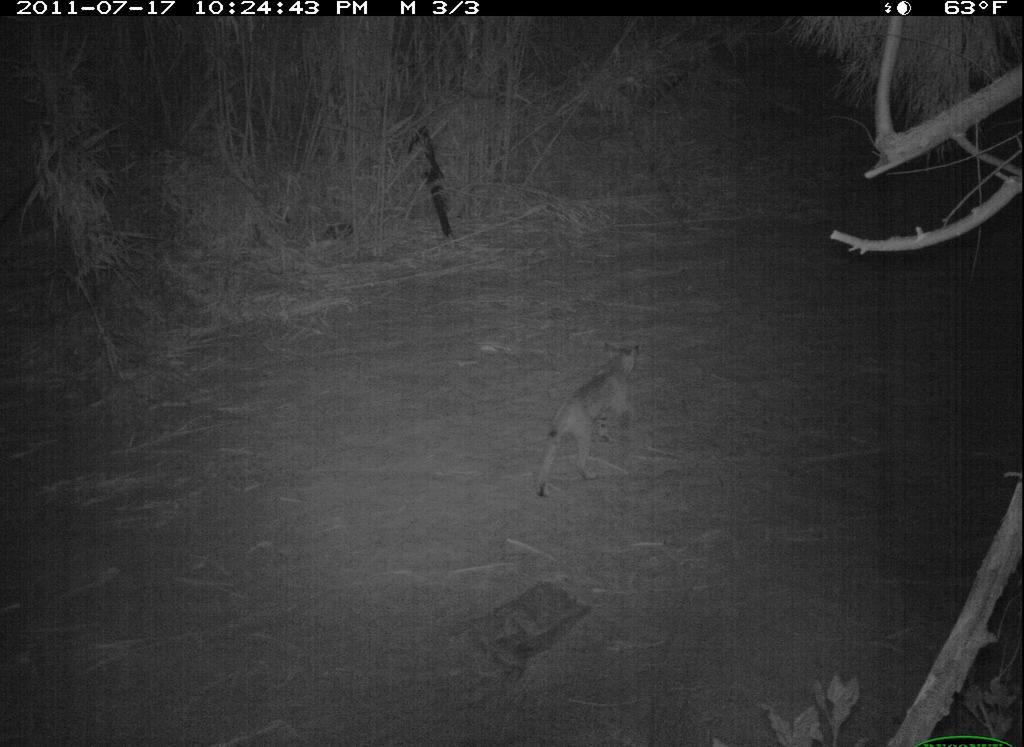bobcat: (515, 335, 674, 528)
